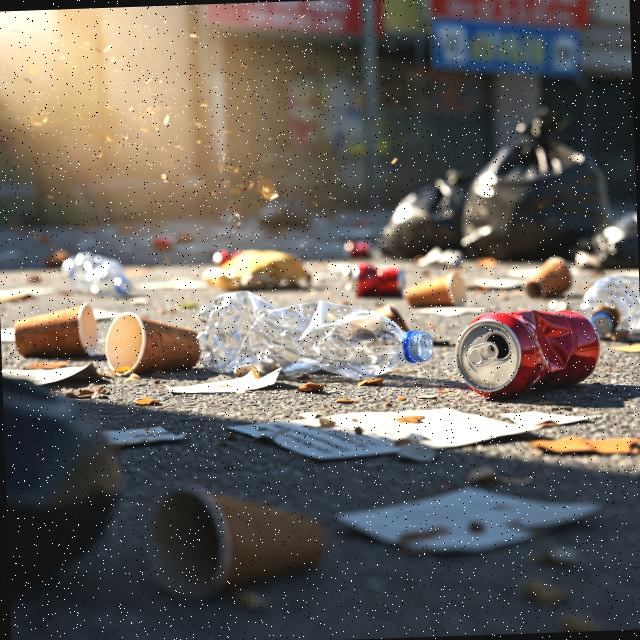aluminum: (453, 304, 602, 402)
paper: (100, 308, 204, 380), (11, 299, 100, 365), (162, 367, 282, 398)
plastic: (196, 286, 438, 387), (581, 274, 640, 334)
